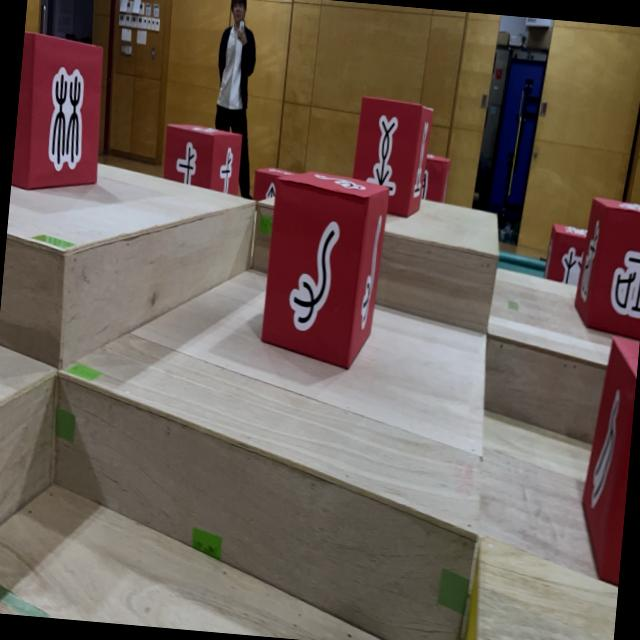10: (586, 387, 622, 509)
12: (262, 178, 276, 200)
13: (284, 216, 342, 336), (357, 213, 382, 331)
2: (43, 64, 90, 173)
5: (606, 228, 640, 319), (578, 218, 602, 304)
6: (558, 245, 583, 286)
7: (362, 112, 402, 198), (412, 119, 428, 200)
9: (174, 140, 199, 186), (216, 145, 235, 194)
fighter: (256, 165, 391, 373), (573, 330, 640, 586), (10, 29, 109, 195), (348, 96, 434, 220), (570, 193, 640, 340), (161, 120, 243, 196), (542, 222, 586, 286), (252, 163, 300, 206), (420, 151, 451, 202)
